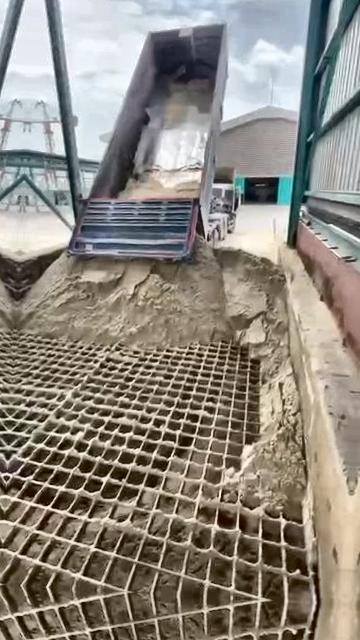sand: (19, 239, 304, 507), (121, 171, 200, 198)
